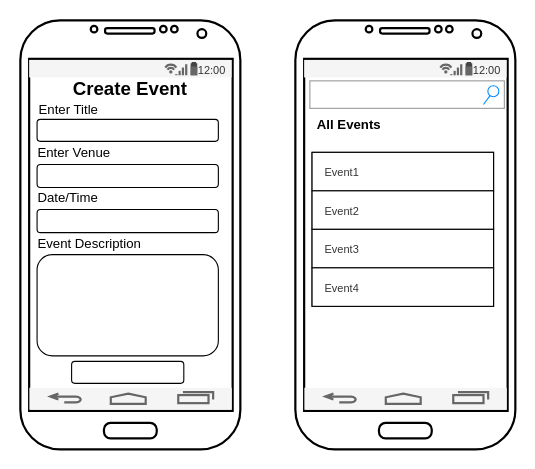
The diagram is 535 pixels wide and 469 high, and some of its shapes have lost their labels. The shapes that lost their labels are listed below. From the top down, each one's box as (x1, y1, x2, y2) in pixels, then its label:
(309, 80, 504, 108): Search....
(71, 360, 184, 383): Create
